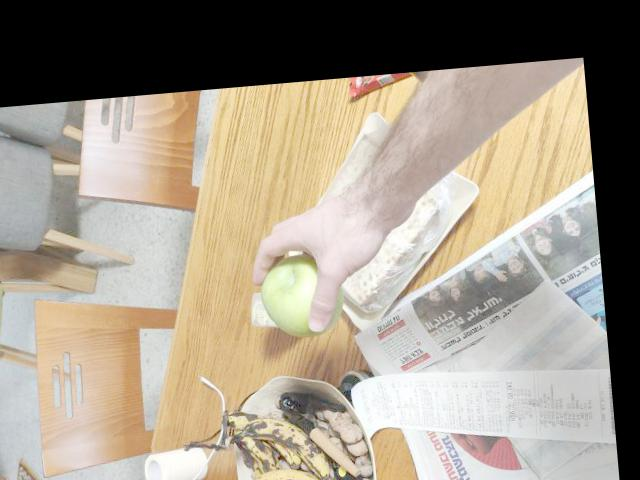apple: (259, 234, 367, 333)
